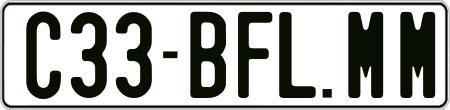3: (68, 12, 107, 101), (113, 12, 151, 103)
B: (188, 12, 229, 102)
C: (24, 11, 64, 103)
F: (235, 12, 271, 100)
L: (276, 9, 319, 99)
M: (345, 12, 386, 104), (398, 10, 430, 97)
